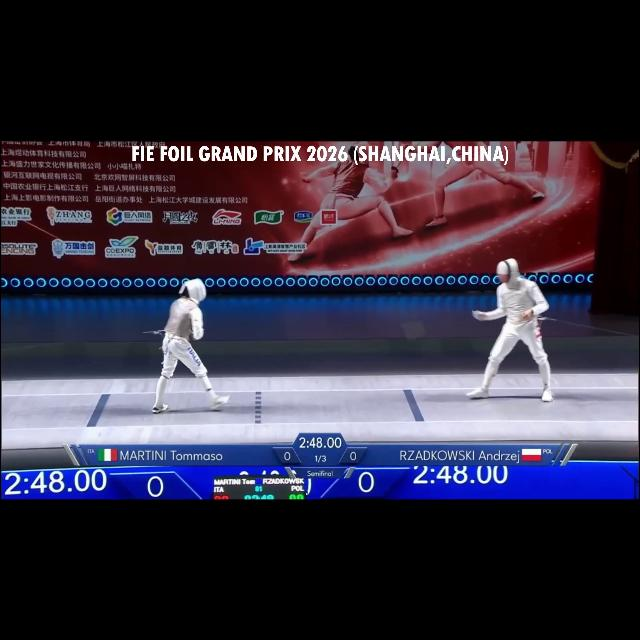blade: (401, 306, 482, 339)
